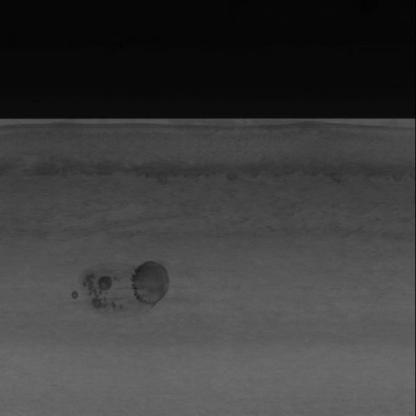oil_spot: (58, 259, 174, 321)
silk_spot: (13, 154, 400, 244)
